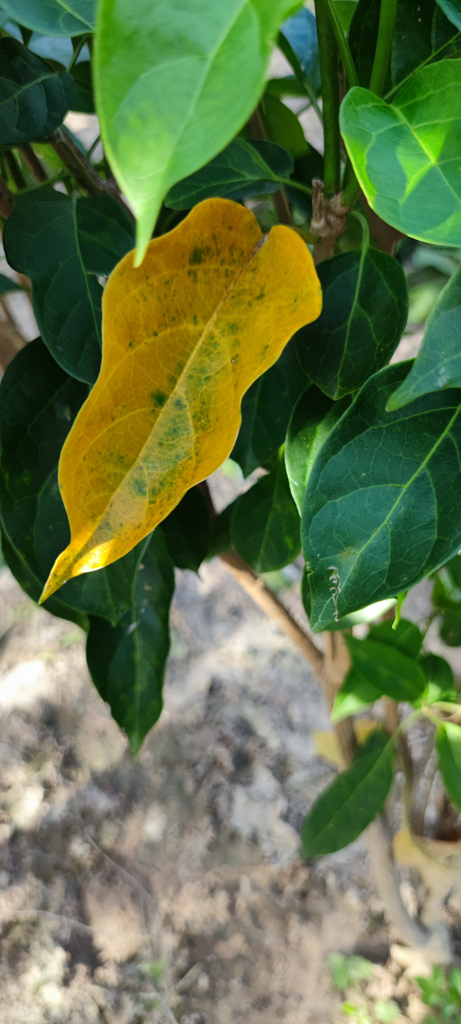Pepper yellow leaf: (27, 199, 325, 613)
